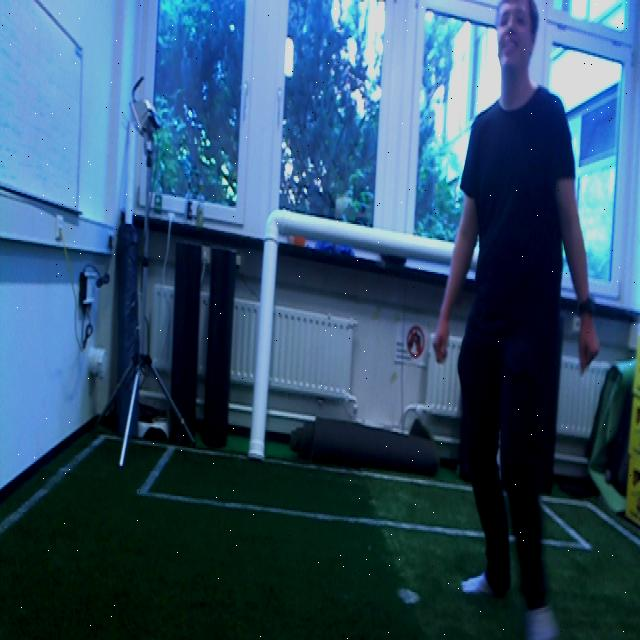goalpost: (252, 194, 284, 455)
